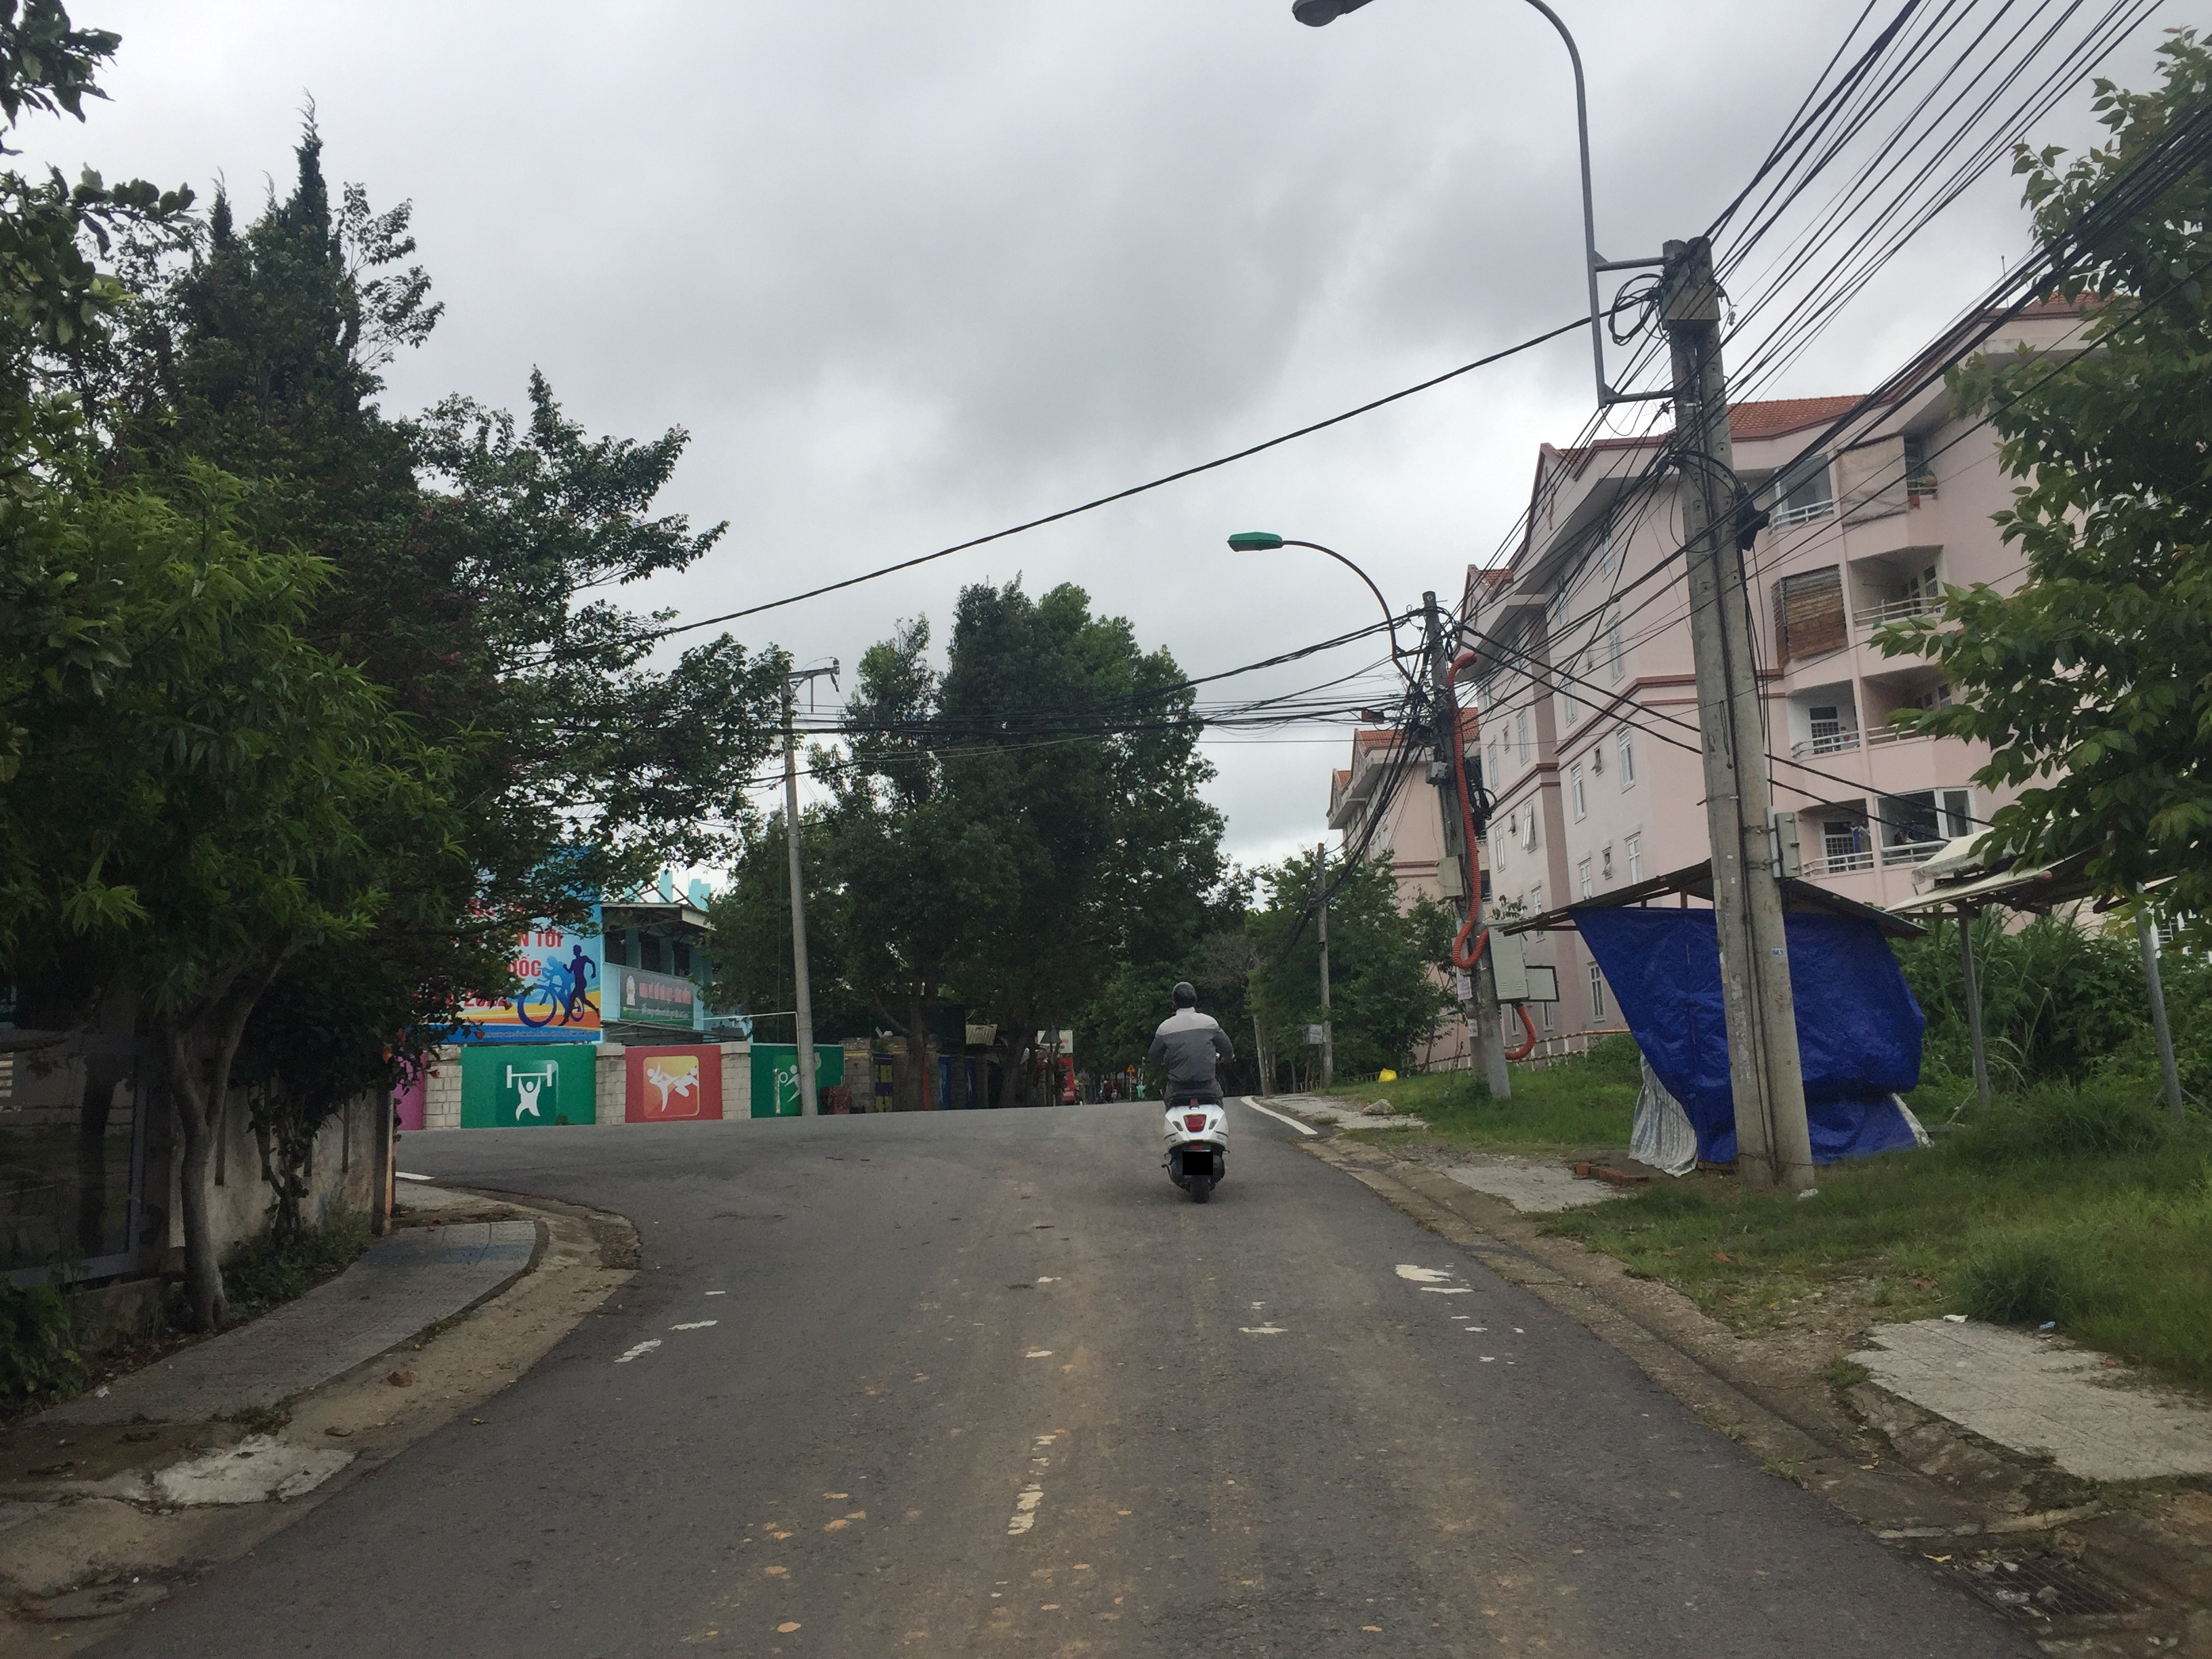hole: (1008, 1281, 1036, 1291), (1036, 1222, 1057, 1230)
